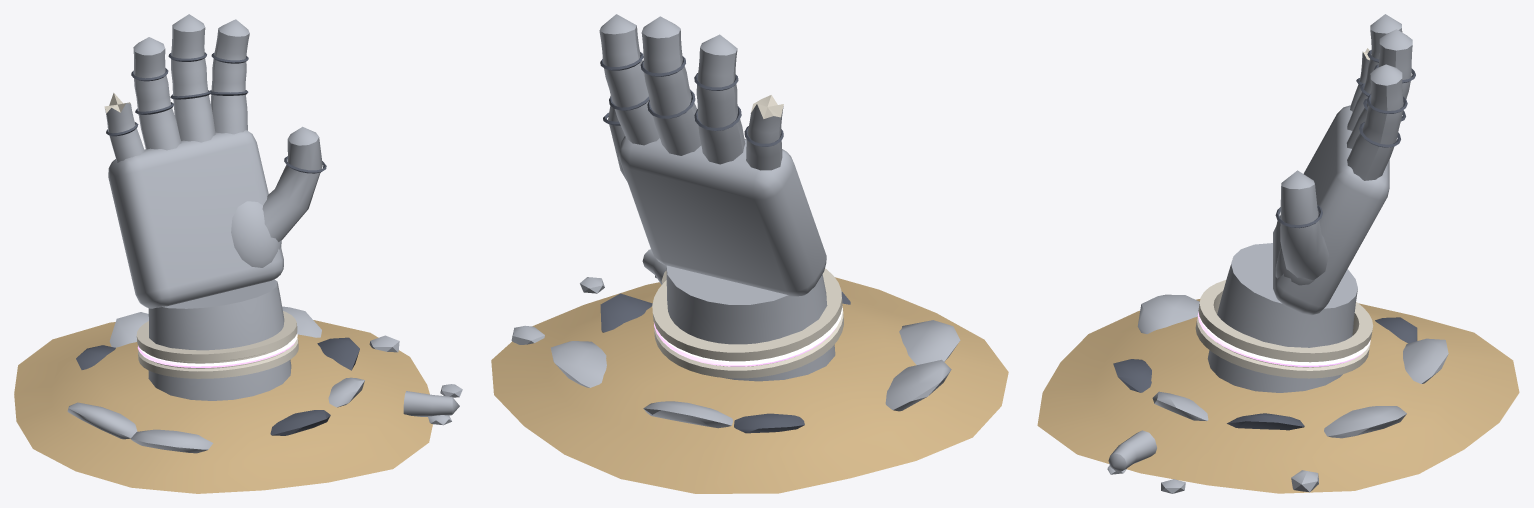
The model's file is deco_colossal_hand.fbx.
3 views of the same model, side by side, from view 1: azimuth 30°, elevation 25°; view 2: azimuth 150°, elevation 25°; view 3: azimuth 270°, elevation 25° (orthographic). The views are drawn at different scales.
Visible parts, largest first — view 1: ColossalHand_Hand, ColossalHand_Rubble; view 2: ColossalHand_Rubble, ColossalHand_Hand; view 3: ColossalHand_Rubble, ColossalHand_Hand.
Boxes of the visible parts, <box> form: ColossalHand_Hand: <box>104,14,326,400</box>; ColossalHand_Rubble: <box>14,306,462,493</box>; ColossalHand_Rubble: <box>491,249,1008,493</box>; ColossalHand_Hand: <box>599,14,843,381</box>; ColossalHand_Rubble: <box>1037,294,1519,493</box>; ColossalHand_Hand: <box>1195,14,1415,392</box>.
Bounding box in the file's own units: 304 × 290 × 308.
